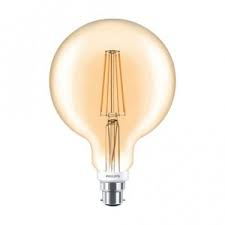bulb: (44, 12, 185, 210)
